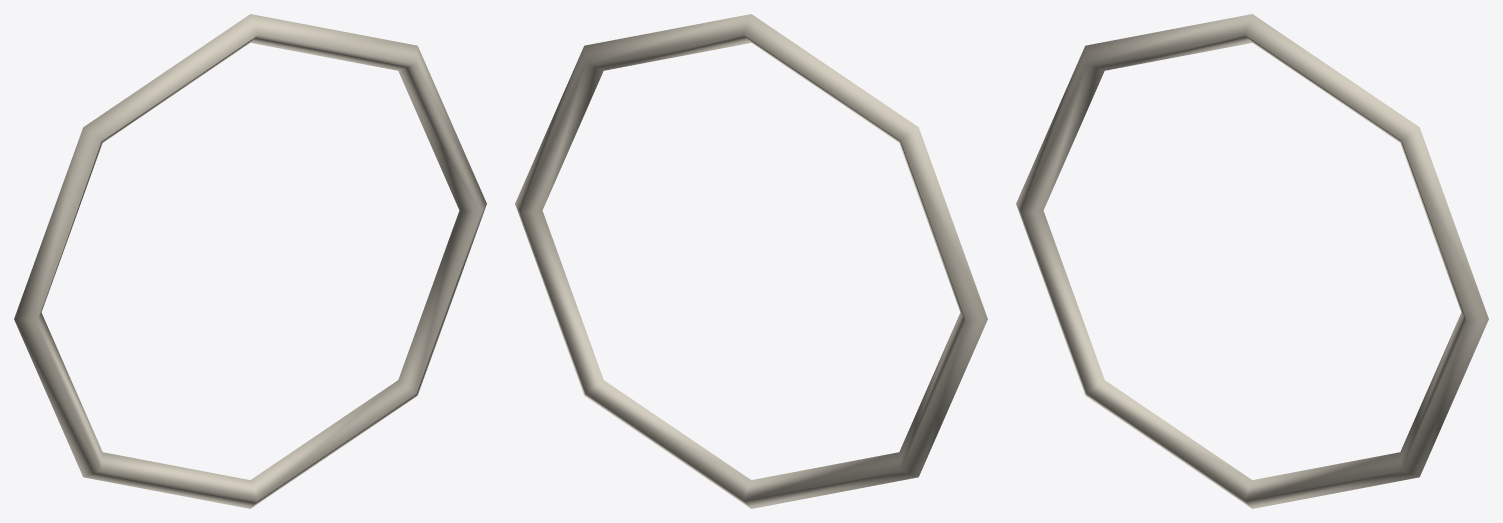
File: mirror.glb
The picture shows the model from 3 angles, left to right: view 1: azimuth 30°, elevation 25°; view 2: azimuth 150°, elevation 25°; view 3: azimuth 330°, elevation 25°; orthographic projection.
Parts seen in each view (by area): view 1: mirror; view 2: mirror; view 3: mirror.
Part boxes in pixels (x1,y1,x2,y2): mirror: [14, 14, 486, 508]; mirror: [515, 14, 987, 508]; mirror: [1016, 14, 1488, 508].
Bounding box in the file's own units: 0.5406 × 0.5406 × 0.0315.
